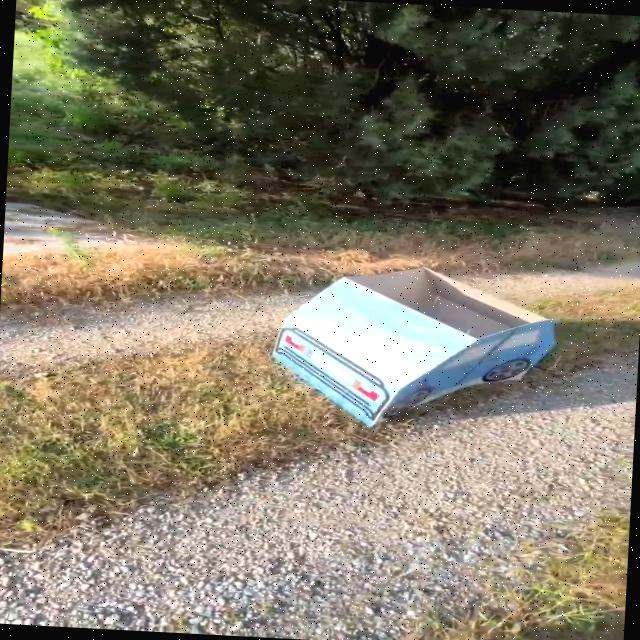blue_car: (236, 235, 586, 454)
